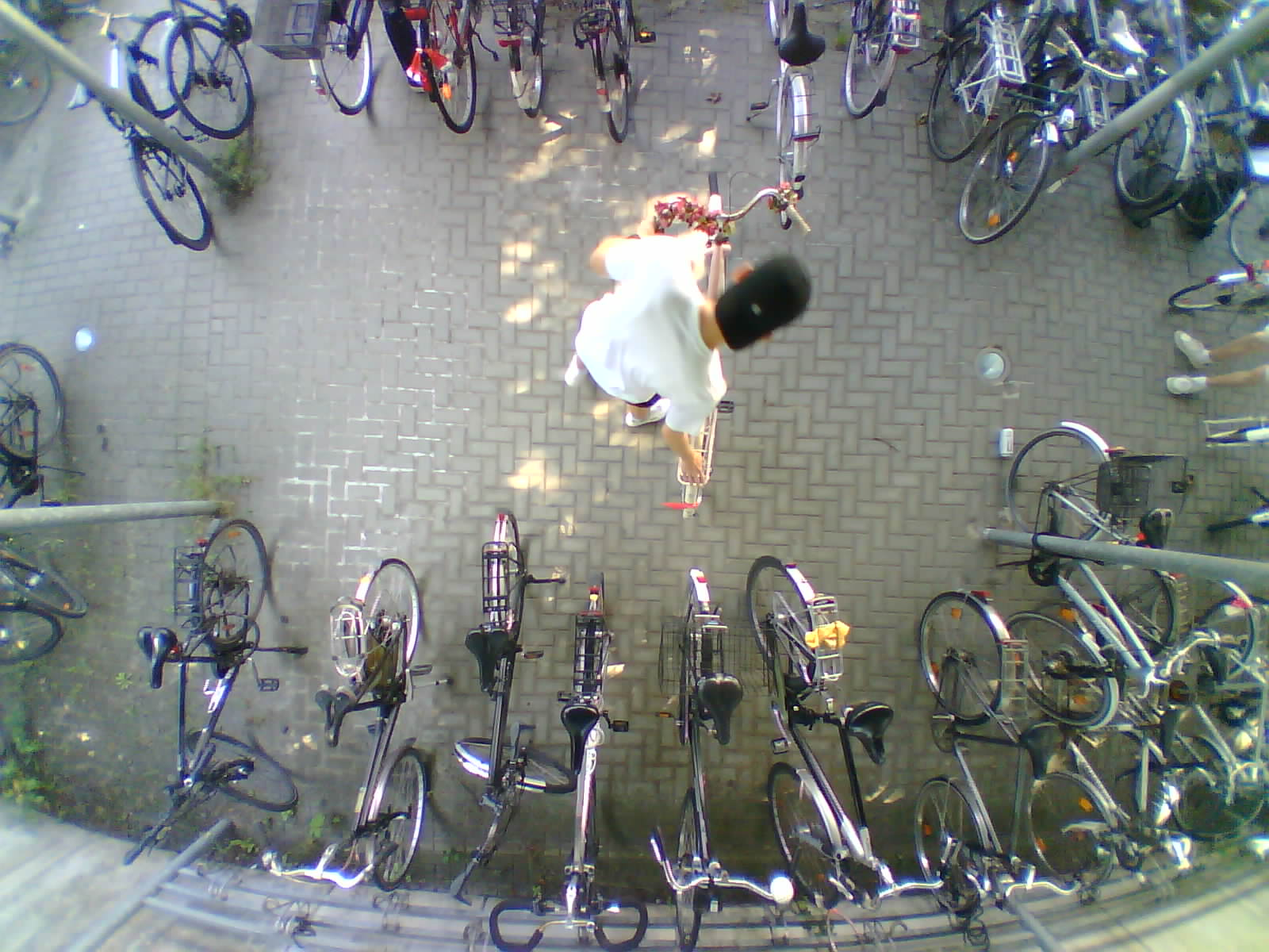bicylce: (650, 169, 806, 524), (999, 409, 1158, 724), (1083, 547, 1256, 832), (756, 556, 889, 916), (161, 505, 282, 827), (1033, 588, 1152, 908), (323, 556, 432, 888), (658, 571, 749, 952), (74, 2, 212, 249), (919, 587, 1015, 914), (470, 513, 543, 886), (555, 572, 622, 947), (0, 339, 84, 622), (977, 0, 1072, 250)
saddle: (698, 670, 746, 748), (775, 0, 828, 68), (843, 699, 893, 767), (1019, 718, 1066, 780), (466, 630, 512, 693), (313, 680, 355, 748), (560, 704, 598, 772), (136, 626, 174, 689), (1106, 11, 1150, 61), (1140, 501, 1179, 556), (1153, 697, 1184, 760), (1204, 638, 1228, 685), (64, 76, 94, 112), (1246, 79, 1269, 119)
